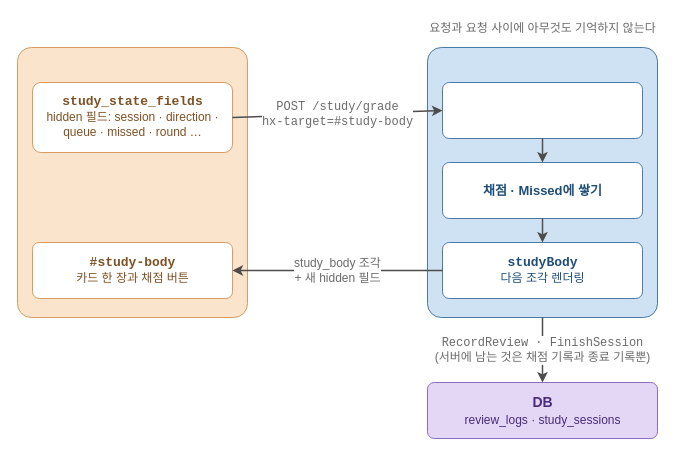
Image size: 675x456. Some labels were removed from this diagram. The box of each missing label's shape, as (x1, y1, x2, y2) in pixels:
stateFromForm 폼 값에서 상태 복원: (442, 82, 642, 138)
브라우저 화면: (16, 46, 248, 318)
서버: (426, 46, 658, 318)
